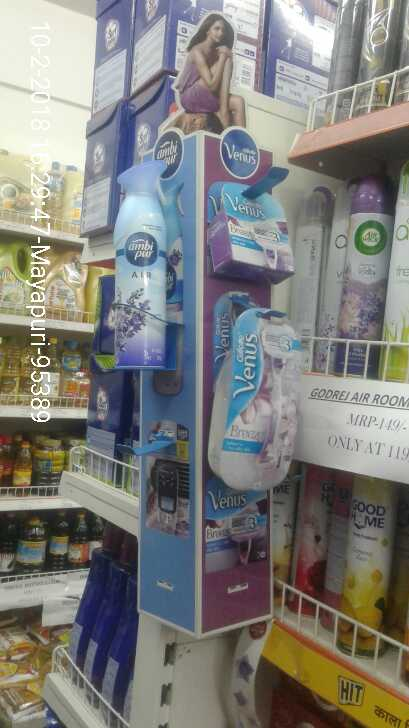beauty: (217, 302, 298, 492), (206, 180, 300, 288)
home: (102, 155, 177, 373)
